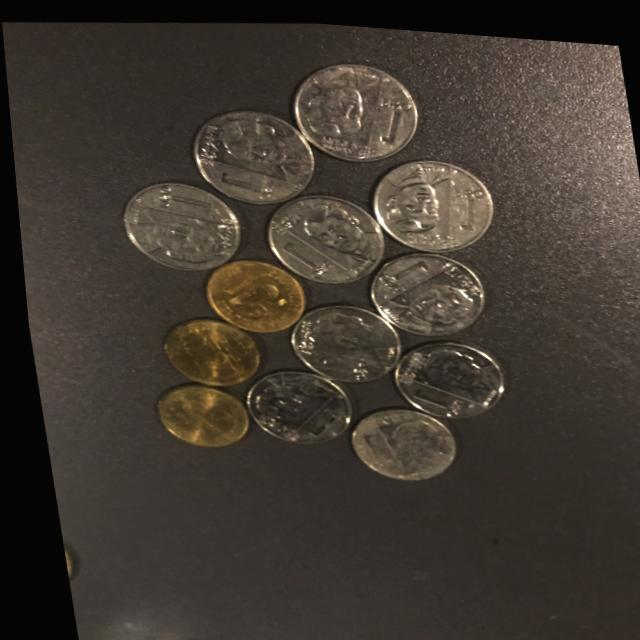1_New_Front: (300, 60, 418, 151), (262, 193, 379, 283), (199, 110, 308, 199), (368, 243, 476, 326), (380, 157, 486, 241), (128, 185, 228, 264)
25Cent_Old_Front: (195, 260, 287, 336), (162, 311, 246, 381)
